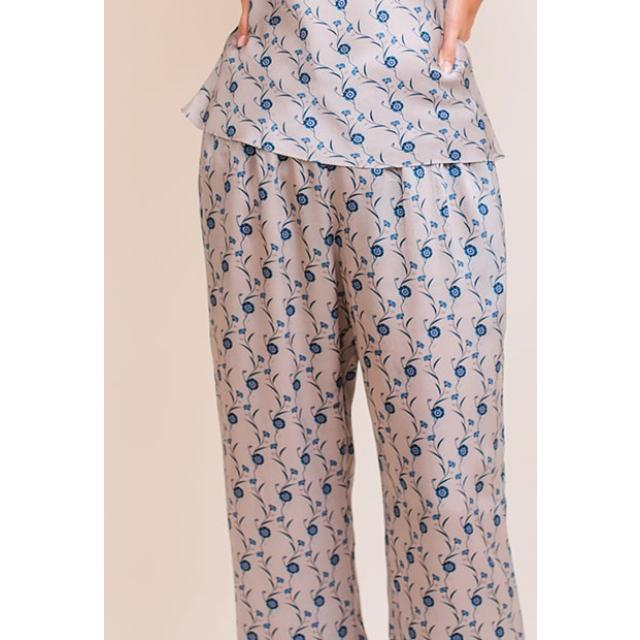silk: (207, 0, 487, 640)
